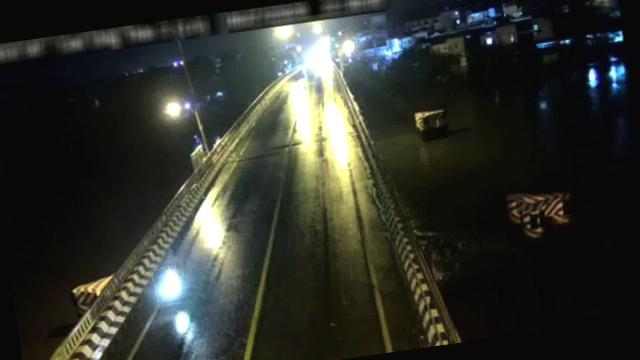Bike: (152, 266, 182, 307)
